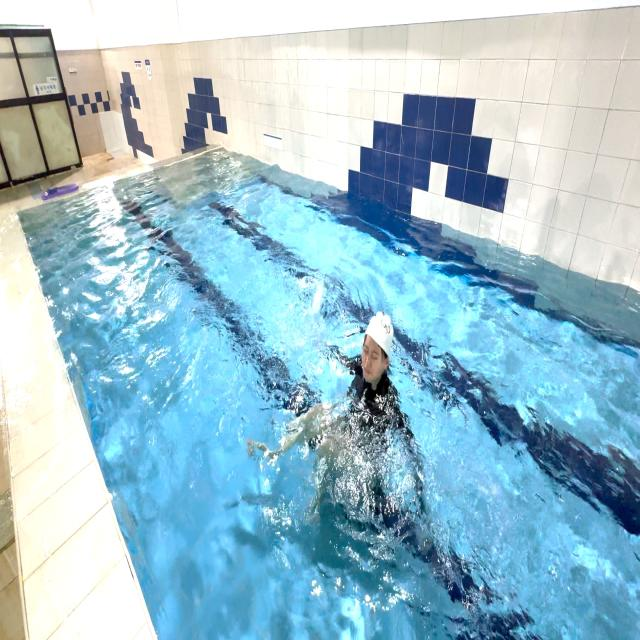Drowning: (246, 240, 424, 541)
